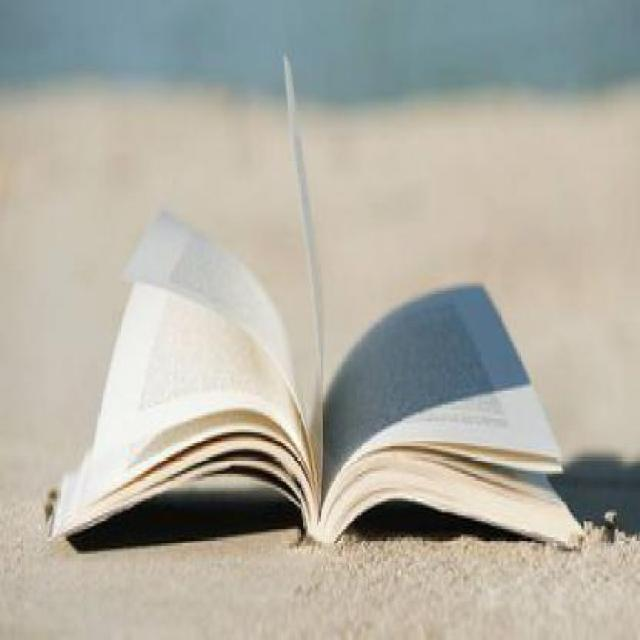book: (32, 46, 603, 610)
